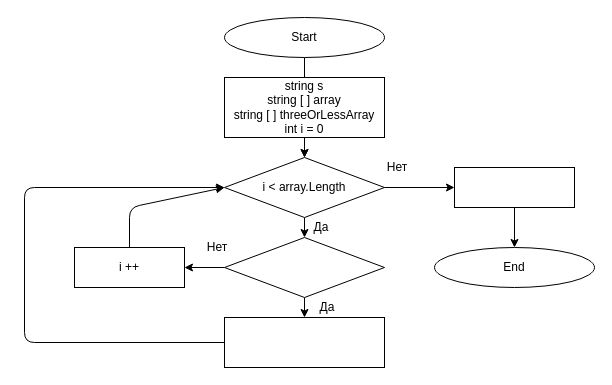
Some shapes in this 612 by 385 pixel diagram are drawn without their labels. The shapes that lost their labels are listed below. From the top down, each one's centre as x and y in pixels, then its label:
point 514,187: threeOrLessArray = s.Split()
point 304,267: array[i].Length <= 3
point 304,342: s += array[ i ] + " " i ++
